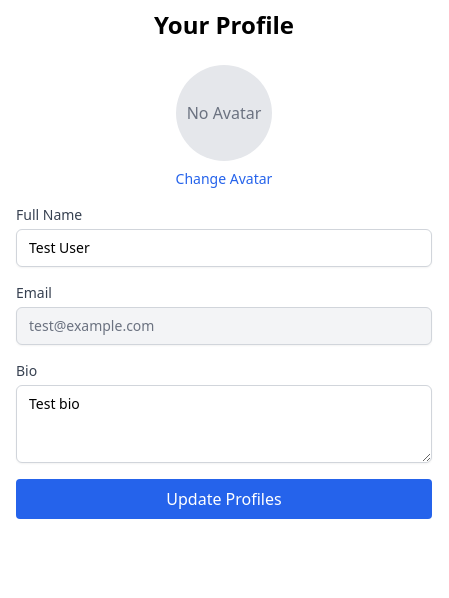
Scenario: Profile Page › handles update failure and displays error message
Click the button "Update Profiles" at (224, 499), box [16,479,432,519]
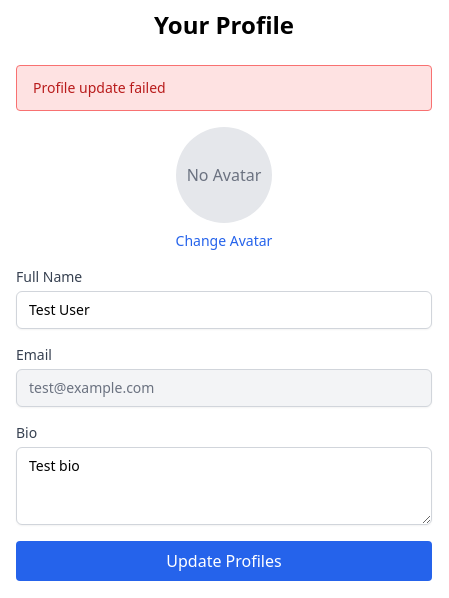
Check: the text "Profile update failed" is shown, box [16,65,432,111]
